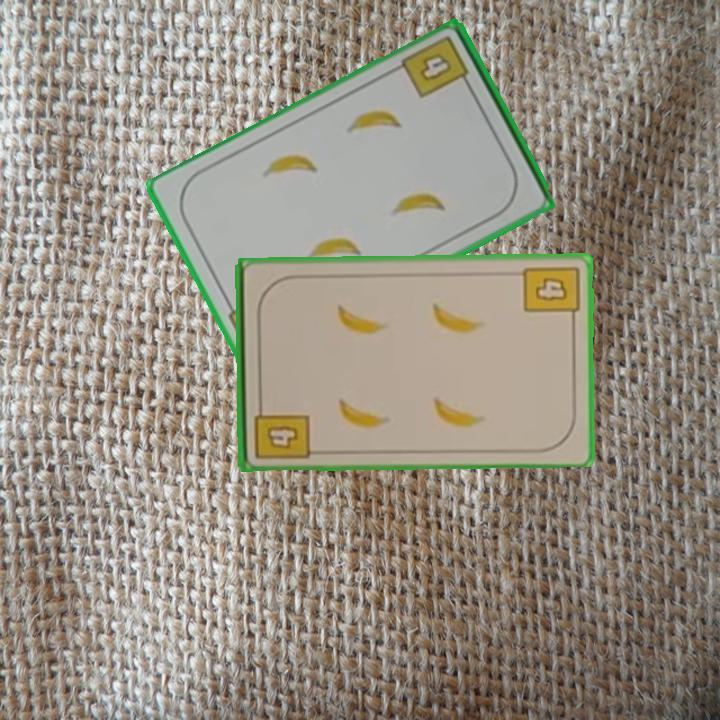4b: (398, 32, 475, 102), (250, 397, 312, 462), (520, 262, 582, 326)
